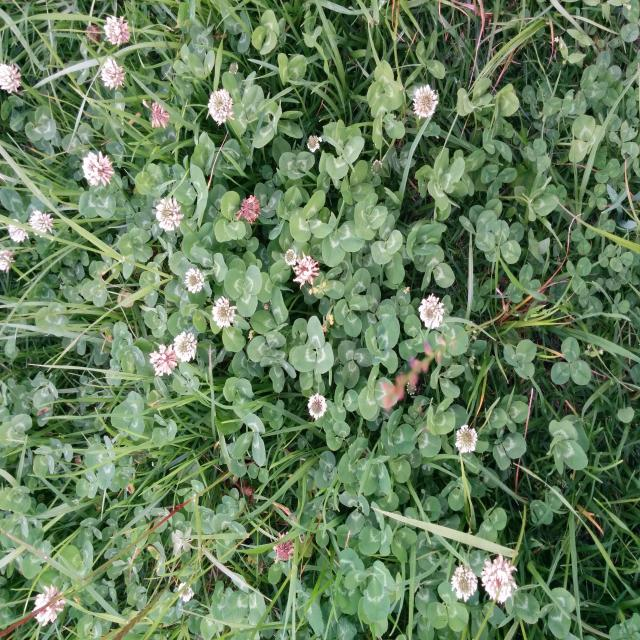Four Leaf Clover: (354, 193, 387, 241)
